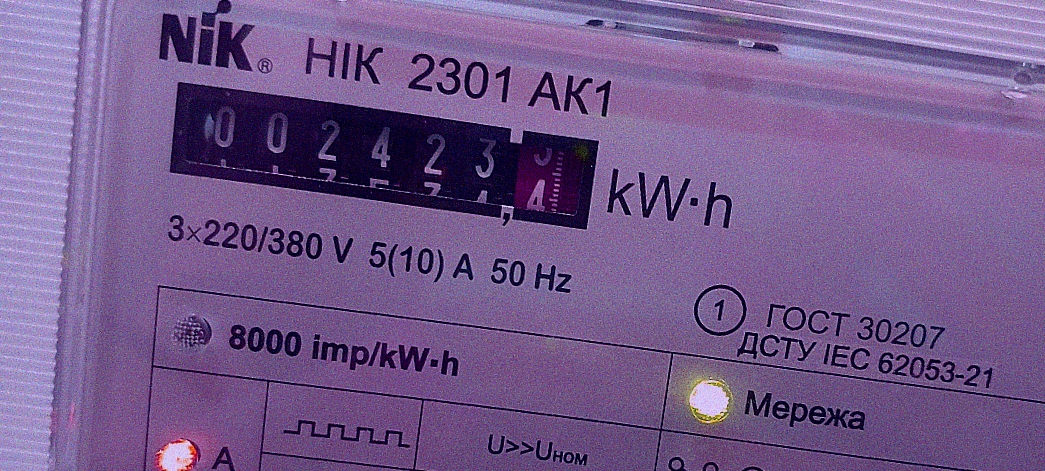0: (208, 100, 241, 151), (261, 108, 292, 156)
2: (312, 114, 344, 164), (419, 129, 449, 178)
3: (470, 134, 500, 181), (530, 142, 554, 168)
4: (366, 122, 395, 170), (522, 173, 552, 213)
screen: (152, 65, 614, 248)
